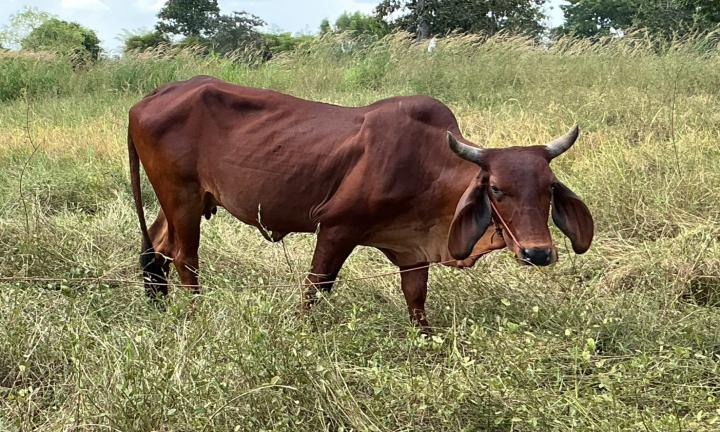Brahman: (128, 76, 593, 325)
